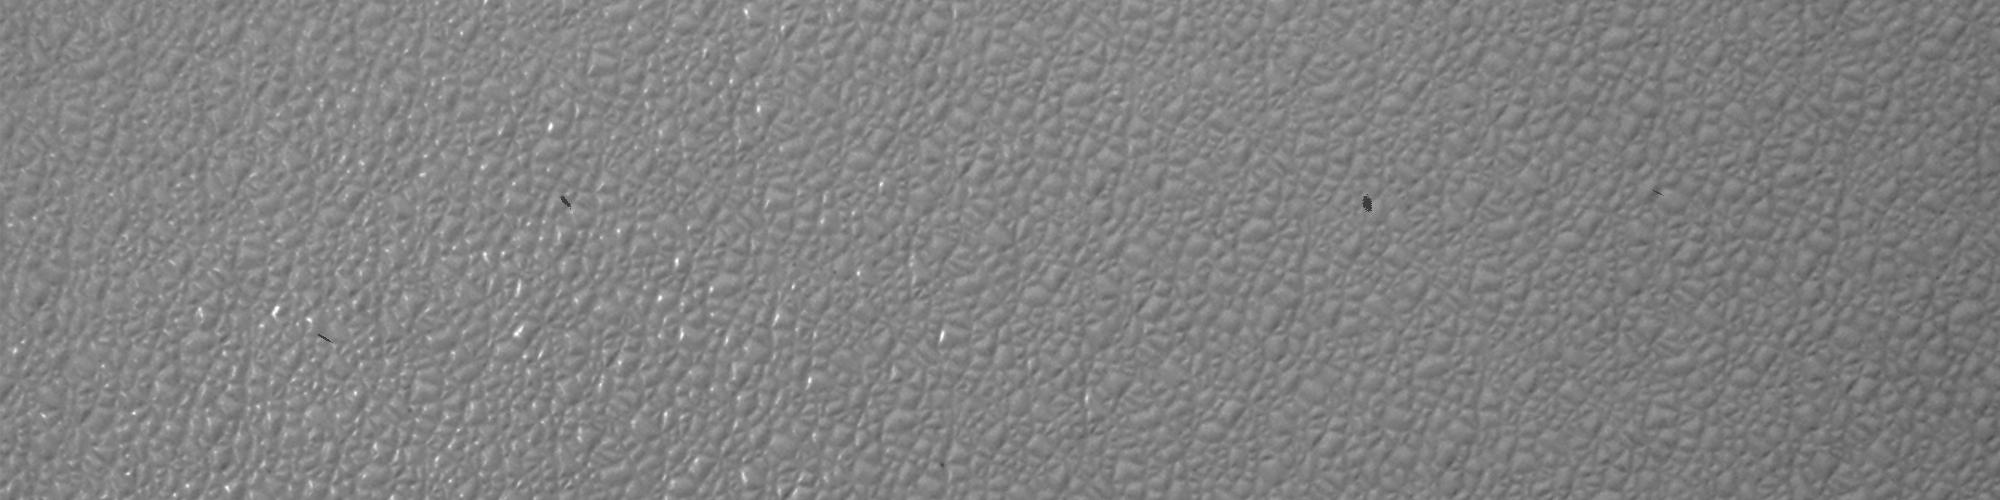Decomposed: (1351, 189, 1392, 214), (547, 187, 585, 212), (305, 329, 339, 351)
